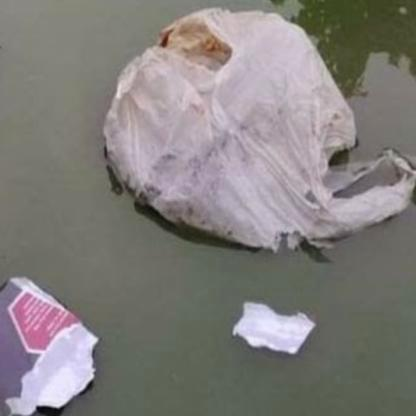Trash: (102, 8, 416, 254), (1, 275, 105, 415), (232, 302, 319, 354)
